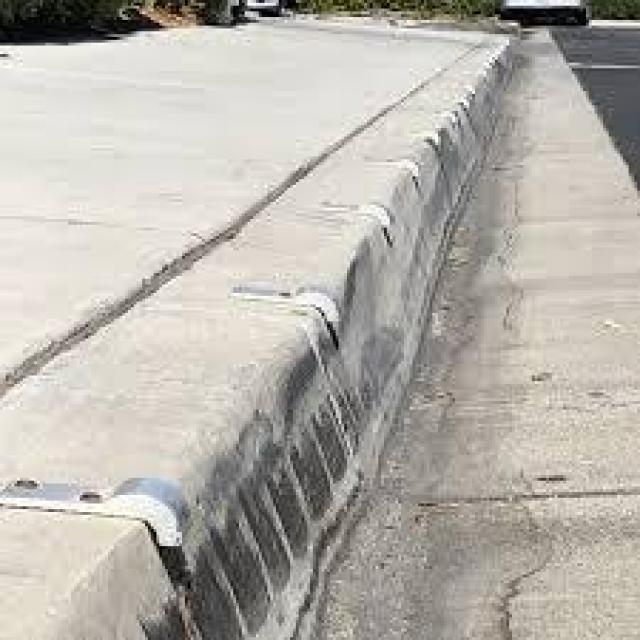bump: (0, 77, 502, 640)
